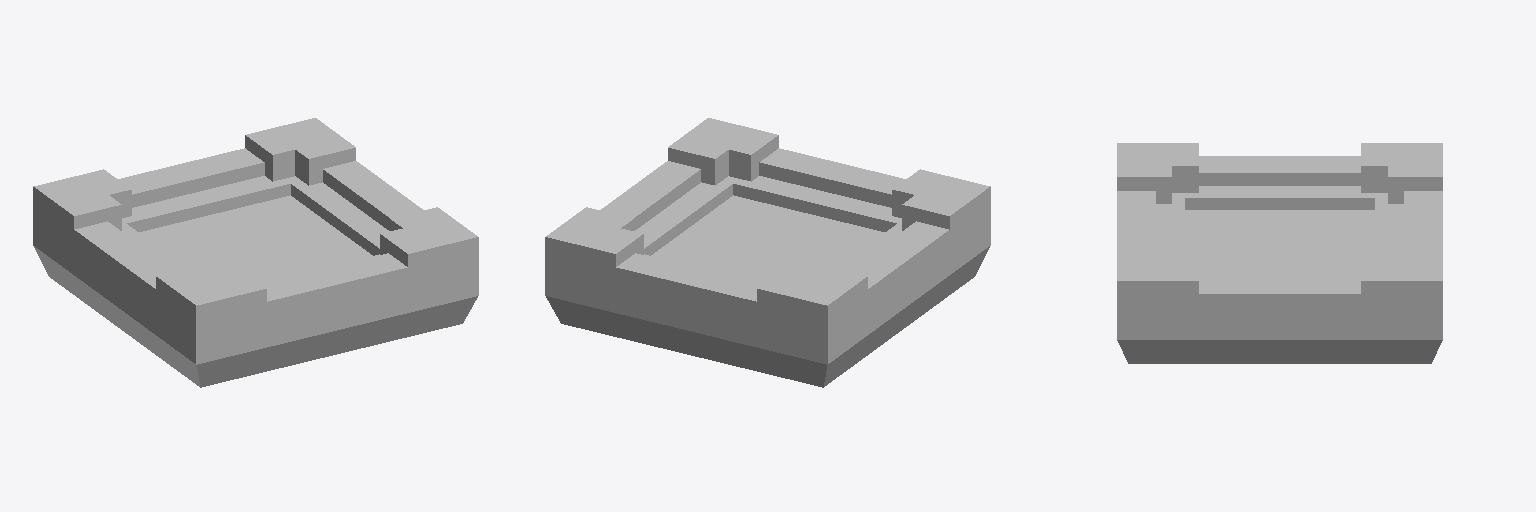
Rendered from towerSquareTop.obj.
The picture shows the model from 3 angles: view 1: azimuth 30°, elevation 25°; view 2: azimuth 150°, elevation 25°; view 3: azimuth 270°, elevation 25°; orthographic projection.
Visible parts, largest first — view 1: towerSquareTop; view 2: towerSquareTop; view 3: towerSquareTop.
Boxes of the visible parts, <box> form: towerSquareTop: <box>33,118,478,387</box>; towerSquareTop: <box>545,118,990,387</box>; towerSquareTop: <box>1117,143,1442,363</box>.
Bounding box in the file's own units: 10 × 3 × 10.